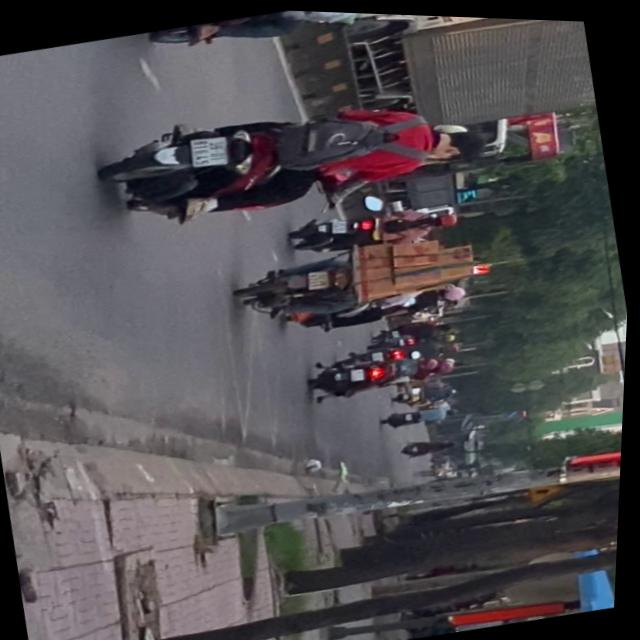licenseplate: (93, 58, 511, 248), (232, 218, 501, 336), (127, 4, 489, 70)
motorcyclist: (423, 114, 497, 164)
nohelmet: (191, 133, 233, 167), (309, 266, 335, 287)
